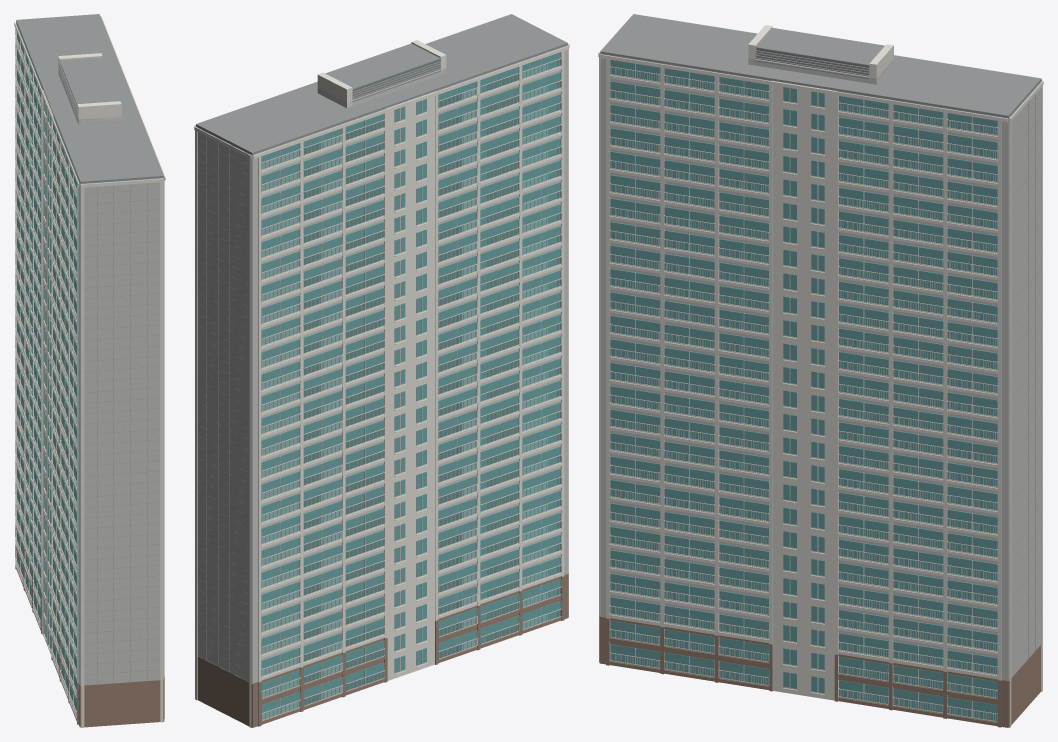
Rendered from bespoke-jamsil-els-102.glb.
3 renders of one model, left to right at view 1: azimuth 30°, elevation 25°; view 2: azimuth 150°, elevation 25°; view 3: azimuth 270°, elevation 25°, orthographic. The views are drawn at different scales.
Visible parts, largest first — view 1: Els102_editable_Els102_light_grey_solid_wall, Els102_editable_Els102_turquoise_balcony_glazing, Els102_editable_Els102_modest_grey_flat_roof_caps, Els102_white_exact_chunk_2, Els102_white_exact_chunk_0, Els102_white_exact_chunk_1, Els102_editable_Els102_muted_ground_wall, Els102_white_exact_chunk_5, Els102_white_exact_chunk_4; view 2: Els102_editable_Els102_turquoise_balcony_glazing, Els102_editable_Els102_light_grey_solid_wall, Els102_white_exact_chunk_0, Els102_white_exact_chunk_1, Els102_white_exact_chunk_2, Els102_editable_Els102_modest_grey_flat_roof_caps, Els102_editable_Els102_muted_ground_wall, Els102_white_exact_chunk_5; view 3: Els102_editable_Els102_turquoise_balcony_glazing, Els102_editable_Els102_light_grey_solid_wall, Els102_white_exact_chunk_5, Els102_white_exact_chunk_4, Els102_white_exact_chunk_2, Els102_white_exact_chunk_3, Els102_editable_Els102_modest_grey_flat_roof_caps, Els102_editable_Els102_muted_ground_wall, Els102_white_exact_chunk_0, Els102_editable_Els102_narrow_charcoal_service_strips.
Boxes of the visible parts, x1,y1,x2,y2 form: Els102_editable_Els102_light_grey_solid_wall: (16,22,163,685); Els102_editable_Els102_turquoise_balcony_glazing: (17,28,78,715); Els102_editable_Els102_modest_grey_flat_roof_caps: (16,14,163,685); Els102_white_exact_chunk_2: (14,22,163,727); Els102_white_exact_chunk_0: (15,21,53,654); Els102_white_exact_chunk_1: (15,25,67,696); Els102_editable_Els102_muted_ground_wall: (15,527,164,727); Els102_white_exact_chunk_5: (58,16,165,180); Els102_white_exact_chunk_4: (137,109,164,677); Els102_editable_Els102_turquoise_balcony_glazing: (261,52,560,719); Els102_editable_Els102_light_grey_solid_wall: (196,45,567,683); Els102_white_exact_chunk_0: (194,91,435,727); Els102_white_exact_chunk_1: (258,81,519,725); Els102_white_exact_chunk_2: (253,44,569,631); Els102_editable_Els102_modest_grey_flat_roof_caps: (196,14,567,677); Els102_editable_Els102_muted_ground_wall: (197,573,568,727); Els102_white_exact_chunk_5: (194,40,446,126); Els102_editable_Els102_turquoise_balcony_glazing: (610,60,997,721); Els102_editable_Els102_light_grey_solid_wall: (600,53,1041,680); Els102_white_exact_chunk_5: (599,25,1007,721); Els102_white_exact_chunk_4: (606,55,943,713); Els102_white_exact_chunk_2: (598,16,1042,700); Els102_white_exact_chunk_3: (609,60,769,685); Els102_editable_Els102_modest_grey_flat_roof_caps: (600,14,1041,675); Els102_editable_Els102_muted_ground_wall: (599,616,1040,727); Els102_white_exact_chunk_0: (1009,81,1043,727); Els102_editable_Els102_narrow_charcoal_service_strips: (756,48,869,74).
Size of the model in its own units: 25.03 by 71.15 by 45.46.
